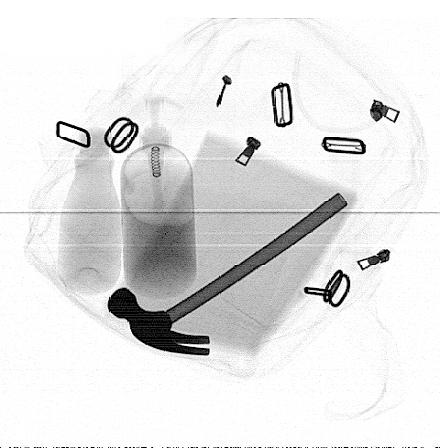Hammer: (106, 192, 350, 356)
